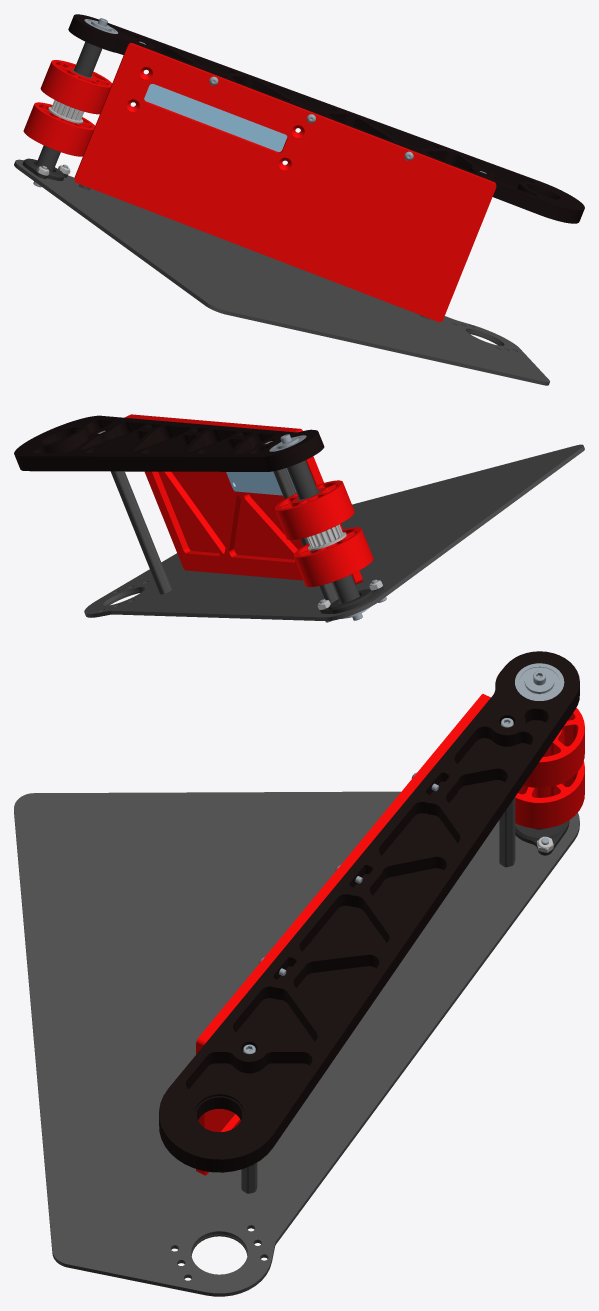
File: Funnel Left.glb
3 views of the same model, one above another, from view 1: azimuth 30°, elevation 25°; view 2: azimuth 150°, elevation 25°; view 3: azimuth 270°, elevation 25° (orthographic). The views are drawn at different scales.
Parts seen in each view (by area): view 1: FUNNEL WALL, LEFT, FUNNEL FLAP, LEFT, FUNNEL WING TOP PLATE, LEFT, am-3950 2.25N OverMolded 375Hex Compliant Wheel V6 (×2), P-25A-0173, Spacer (Configurable), 18t 9mm Wide 1/2" Hex Bore Double Flange 5mm HTD Aluminum Pu; view 2: FUNNEL FLAP, LEFT, FUNNEL WING TOP PLATE, LEFT, FUNNEL WALL, LEFT, am-3950 2.25N OverMolded 375Hex Compliant Wheel V6 (×2), 3/8" ThunderHex (4.875 in) (×2), Spacer (Configurable) (×2), P-25A-0173, BEARING HAT, 18t 9mm Wide 1/2" Hex Bore Double Flange 5mm HTD Aluminum Pu; view 3: FUNNEL FLAP, LEFT, FUNNEL WING TOP PLATE, LEFT, am-3950 2.25N OverMolded 375Hex Compliant Wheel V6 (×2), FUNNEL WALL, LEFT, 3/8" ThunderHex (4.875 in), .375" Hex ID 1.125" OD Flanged Bearing (217-2735), BEARING HAT.
Part boxes in pixels (<box>): FUNNEL WALL, LEFT: <box>74,43,496,322</box>; FUNNEL FLAP, LEFT: <box>14,159,549,385</box>; FUNNEL WING TOP PLATE, LEFT: <box>68,14,584,223</box>; am-3950 2.25N OverMolded 375Hex Compliant Wheel V6 (×2): <box>23,60,112,156</box>; P-25A-0173: <box>131,73,300,165</box>; Spacer (Configurable): <box>74,42,101,77</box>; 18t 9mm Wide 1/2" Hex Bore Double Flange 5mm HTD Aluminum Pu: <box>48,100,84,123</box>; FUNNEL FLAP, LEFT: <box>84,444,584,621</box>; FUNNEL WING TOP PLATE, LEFT: <box>14,415,324,471</box>; FUNNEL WALL, LEFT: <box>125,414,362,584</box>; am-3950 2.25N OverMolded 375Hex Compliant Wheel V6 (×2): <box>274,480,373,586</box>; 3/8" ThunderHex (4.875 in) (×2): <box>110,468,338,603</box>; Spacer (Configurable) (×2): <box>287,460,359,603</box>; P-25A-0173: <box>226,468,296,495</box>; BEARING HAT: <box>320,586,383,613</box>; 18t 9mm Wide 1/2" Hex Bore Double Flange 5mm HTD Aluminum Pu: <box>306,524,346,550</box>; FUNNEL FLAP, LEFT: <box>14,791,579,1296</box>; FUNNEL WING TOP PLATE, LEFT: <box>159,651,579,1172</box>; am-3950 2.25N OverMolded 375Hex Compliant Wheel V6 (×2): <box>515,708,584,828</box>; FUNNEL WALL, LEFT: <box>196,694,490,1175</box>; 3/8" ThunderHex (4.875 in): <box>499,797,515,867</box>; .375" Hex ID 1.125" OD Flanged Bearing (217-2735): <box>515,663,564,700</box>; BEARING HAT: <box>515,820,569,855</box>.
Bounding box in the file's own units: 0.4374 × 0.3012 × 0.3592.
